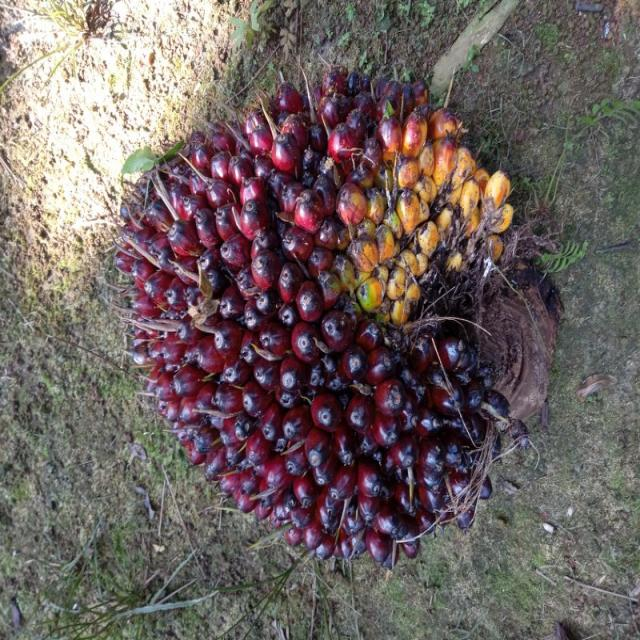fraksi 00: (81, 48, 569, 558)
